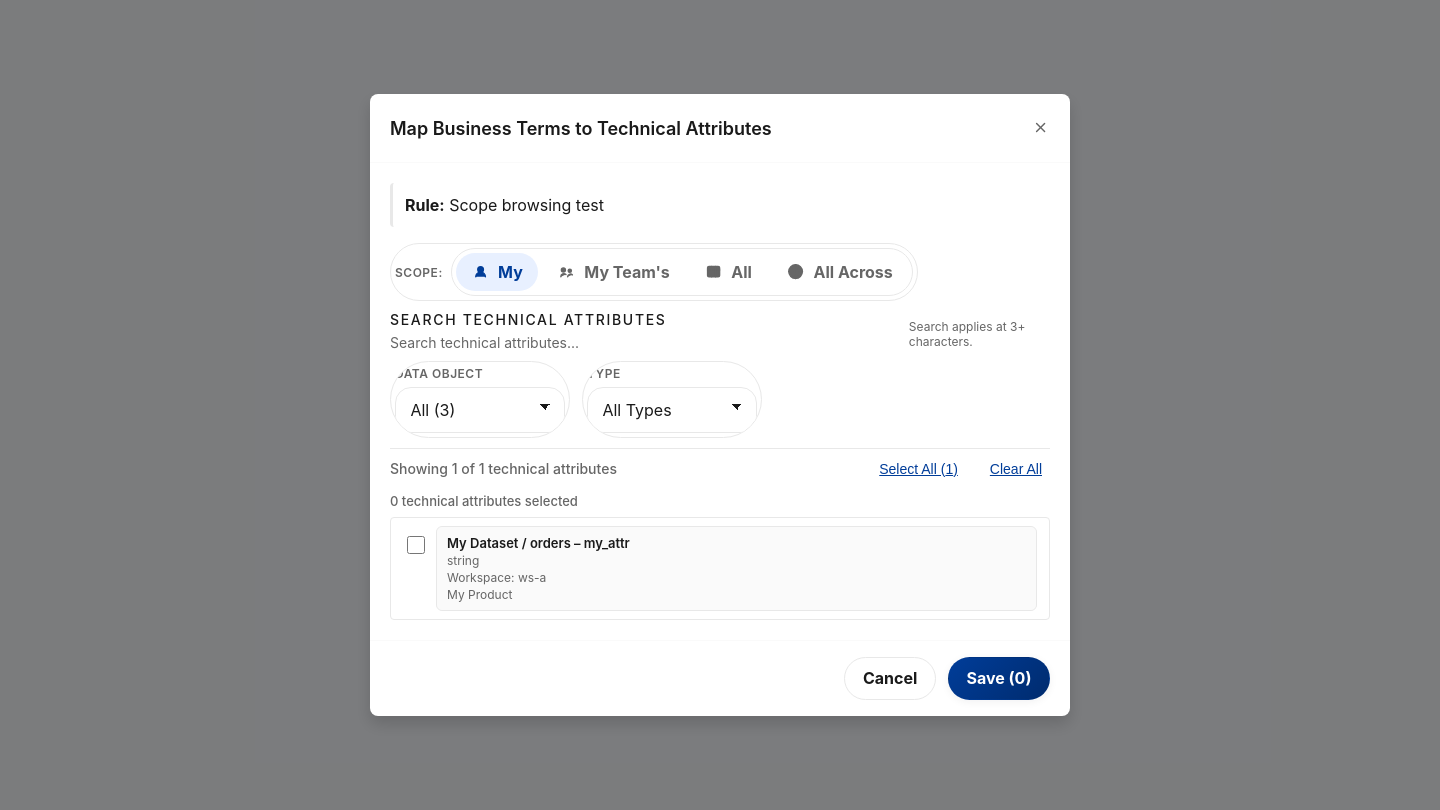
it: AssignAttributesModal scope browsing › filters catalog attributes by my, team, all, and all across scopes
Expected: the text "Showing 1 of 1 technical attributes" is shown, [390,460,617,477]
Expected: the text "My Dataset / orders – my_attr" is shown, [447,535,630,551]
Click the tab "My Team's" at (614, 272), box [542,253,685,291]
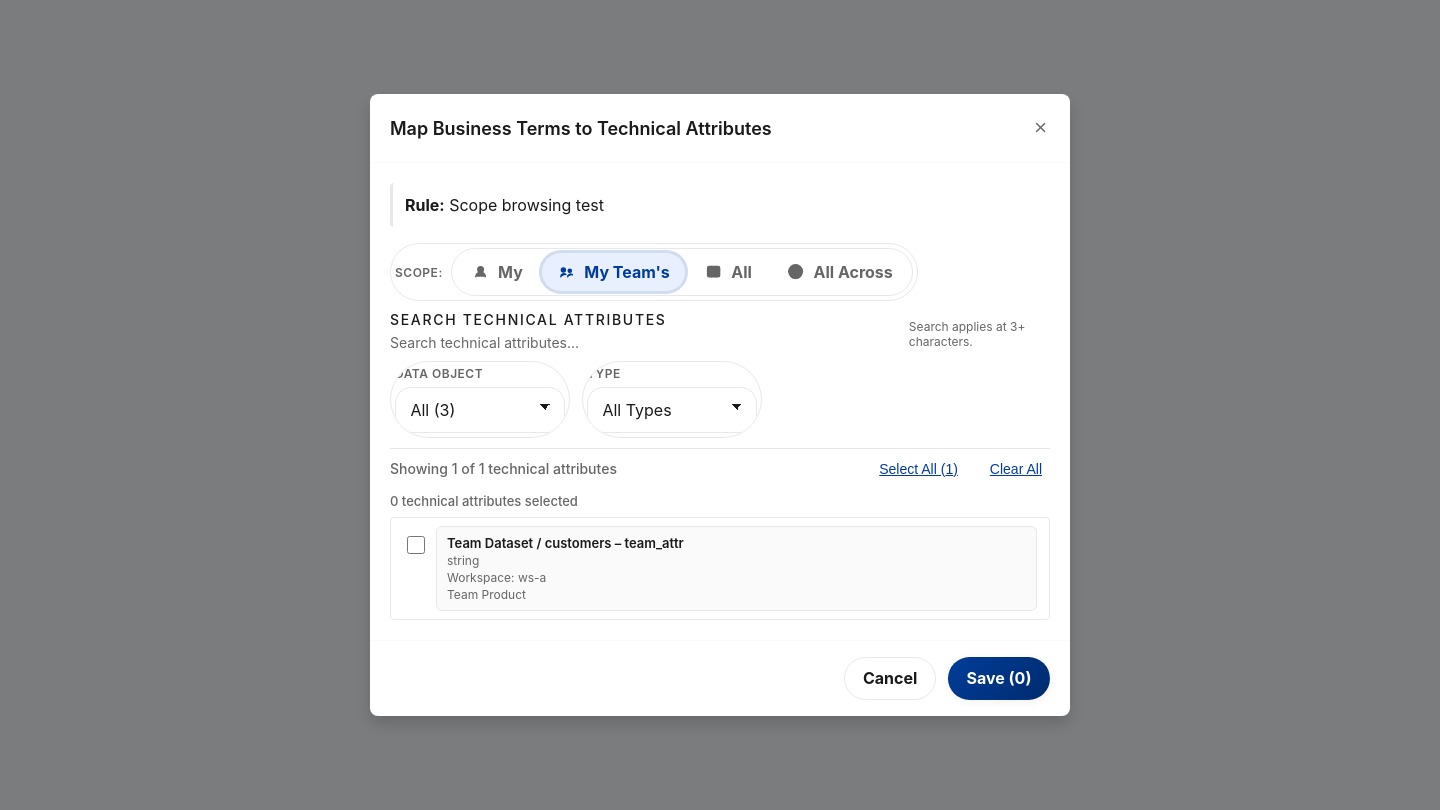
Expected: the text "Showing 1 of 1 technical attributes" is shown, [390,460,617,477]
Result: the text "Team Dataset / customers – team_attr" is shown at [447,535,684,551]
Result: the text "my_attr" is gone
Click the tab "All" at (728, 272), box [689,253,767,291]
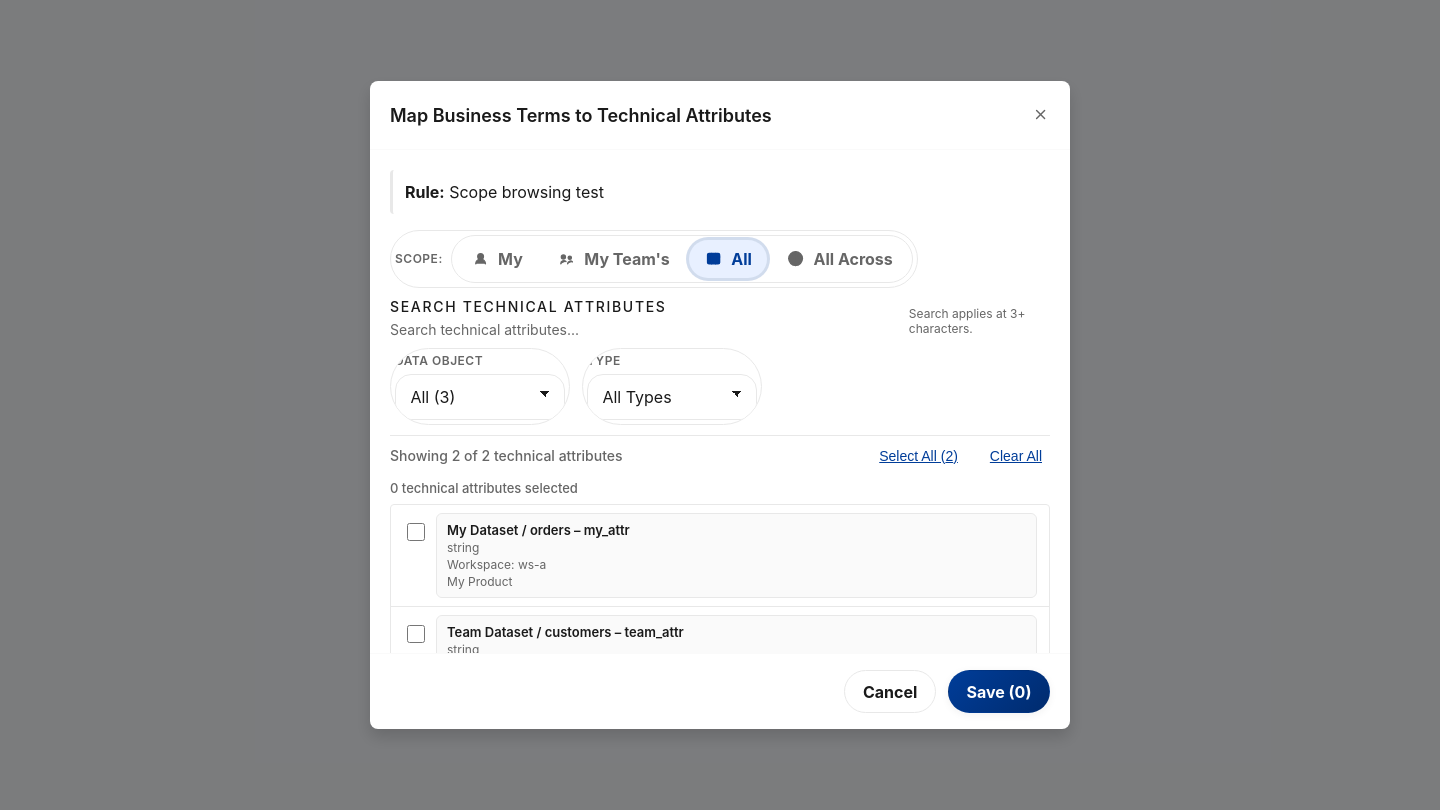
Result: the text "Team Dataset / customers – team_attr" is shown at [447,624,684,640]
Result: the text "Showing 2 of 2 technical attributes" is shown at [390,447,623,464]
Result: the text "My Dataset / orders – my_attr" is shown at [447,522,630,538]
Click the tab "All Across" at (840, 259), box [771,240,908,278]
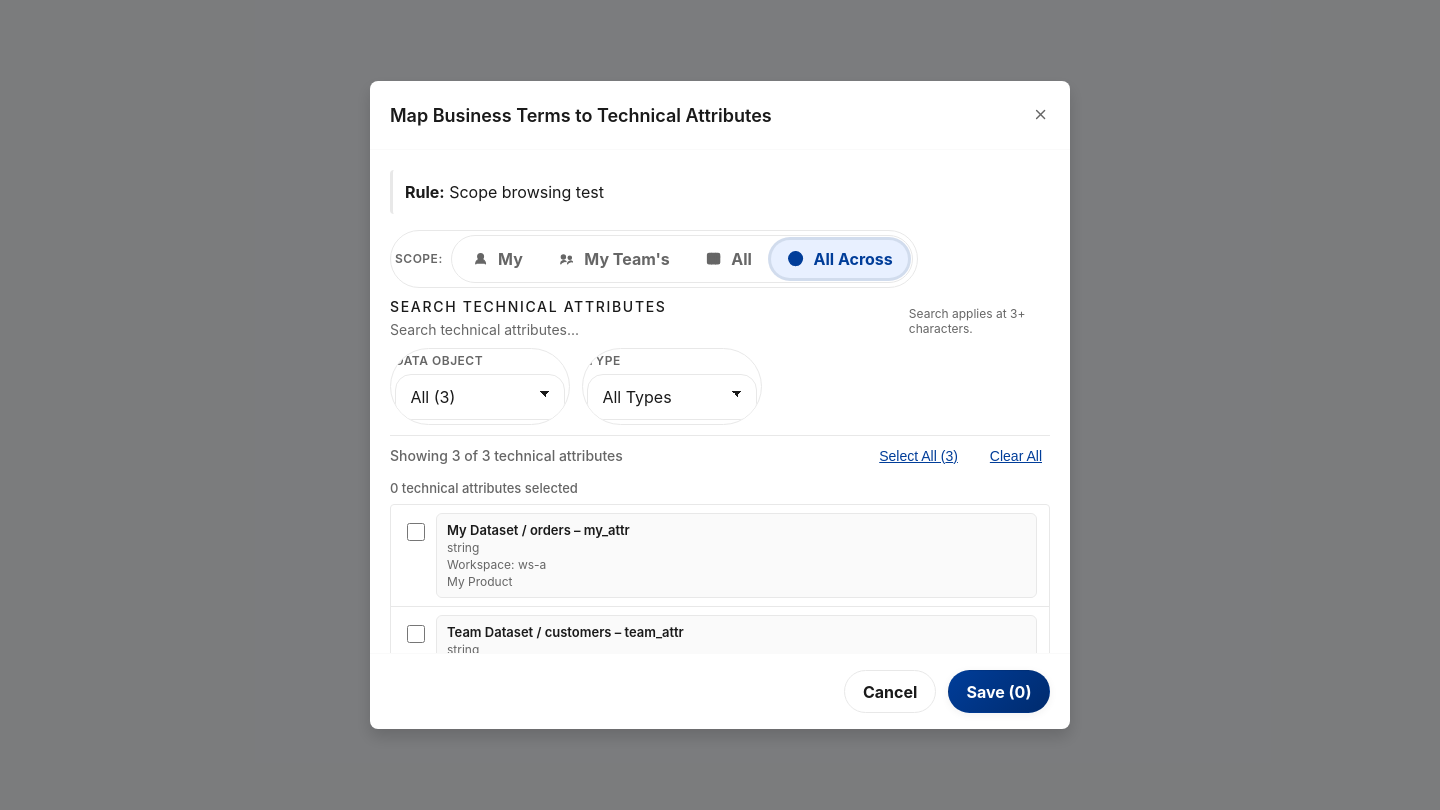
Result: the text "Showing 3 of 3 technical attributes" is shown at [390,447,623,464]
Type "te" into the field with placeholder "Search technical attributes..." at (643, 329), box [390,321,897,338]
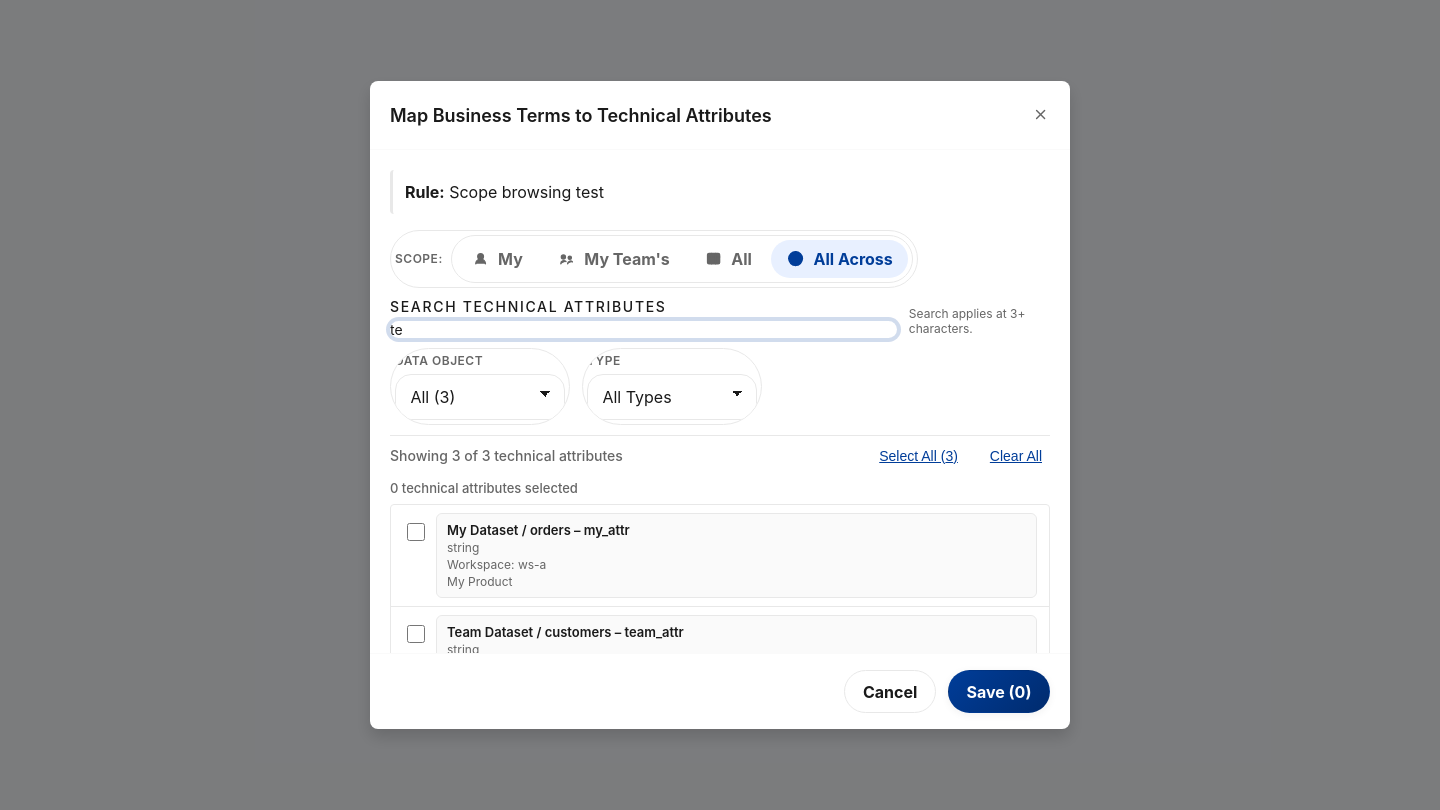
Result: the text "Showing 3 of 3 technical attributes" is shown at [390,447,623,464]
Replace the text in the field with placeholder "Search technical attributes..." with "team dataset" at (643, 329), box [390,321,897,338]
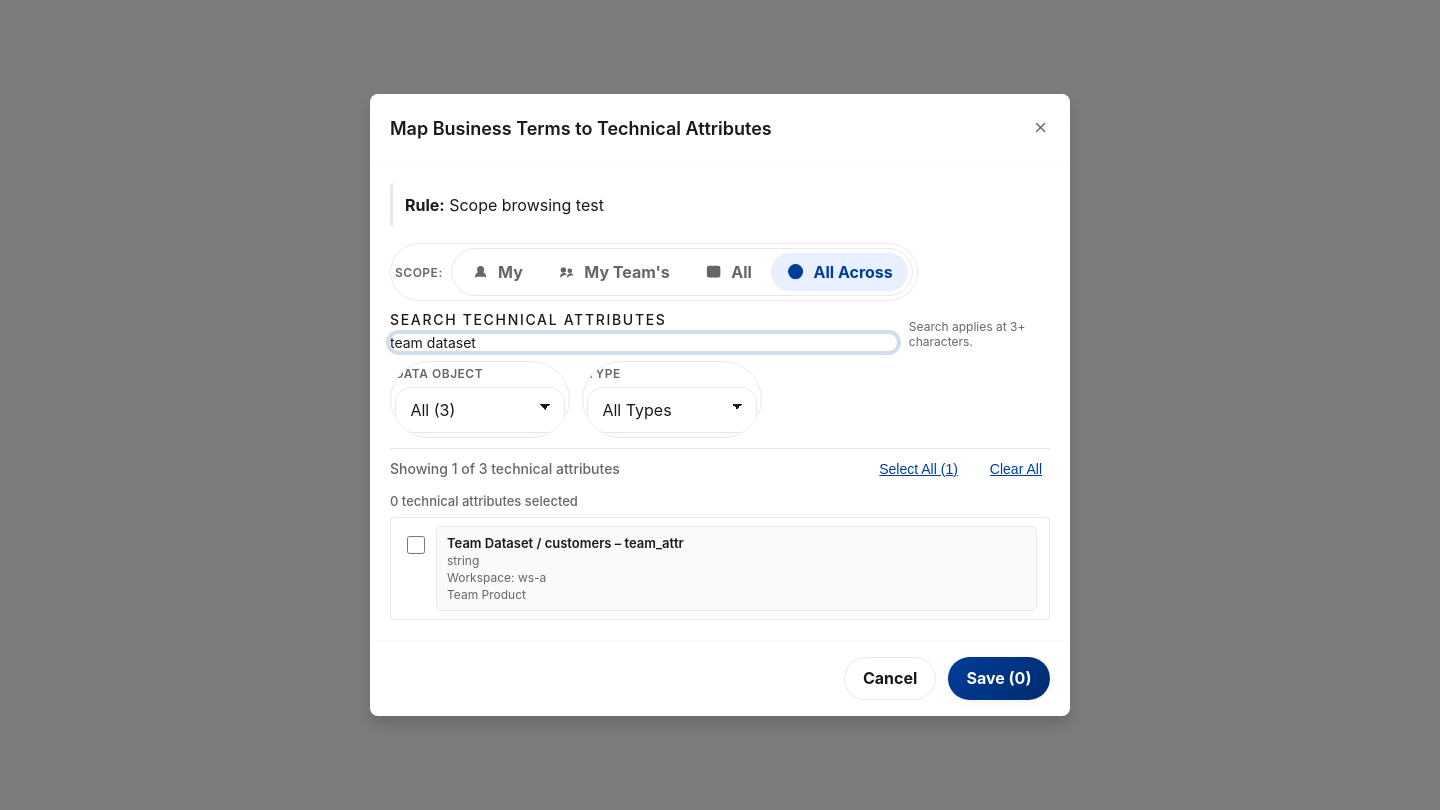
Result: the text "Team Dataset / customers – team_attr" is shown at [447,535,684,551]
Result: the text "Showing 1 of 3 technical attributes" is shown at [390,460,620,477]
Result: the text "my_attr" is gone
